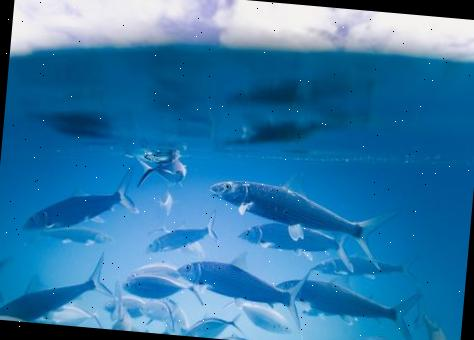fish: (200, 170, 400, 272), (172, 248, 310, 329), (21, 156, 143, 242), (0, 239, 115, 329), (270, 275, 419, 340), (312, 240, 419, 282), (146, 204, 220, 260), (120, 271, 208, 307), (135, 152, 188, 194), (183, 308, 244, 340), (139, 298, 180, 331), (126, 260, 178, 282), (418, 315, 450, 340), (344, 331, 429, 340), (112, 302, 135, 332), (157, 192, 173, 216)
